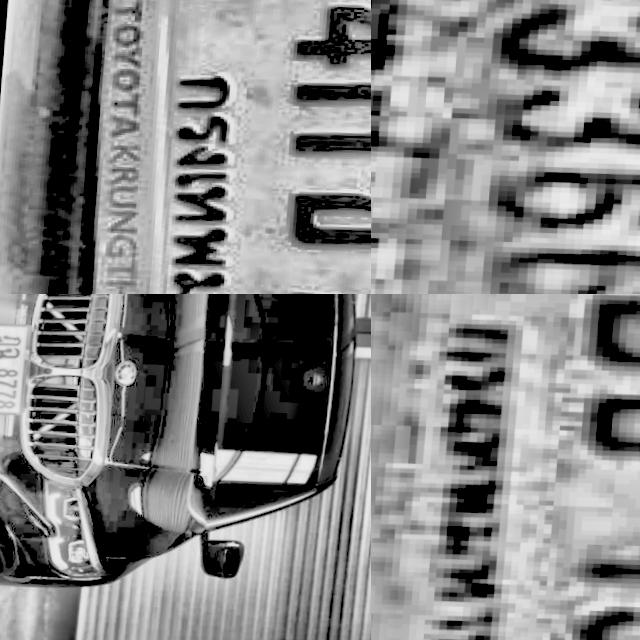license-plate: (41, 0, 371, 294), (371, 294, 640, 640), (371, 0, 640, 294), (0, 323, 35, 417)
